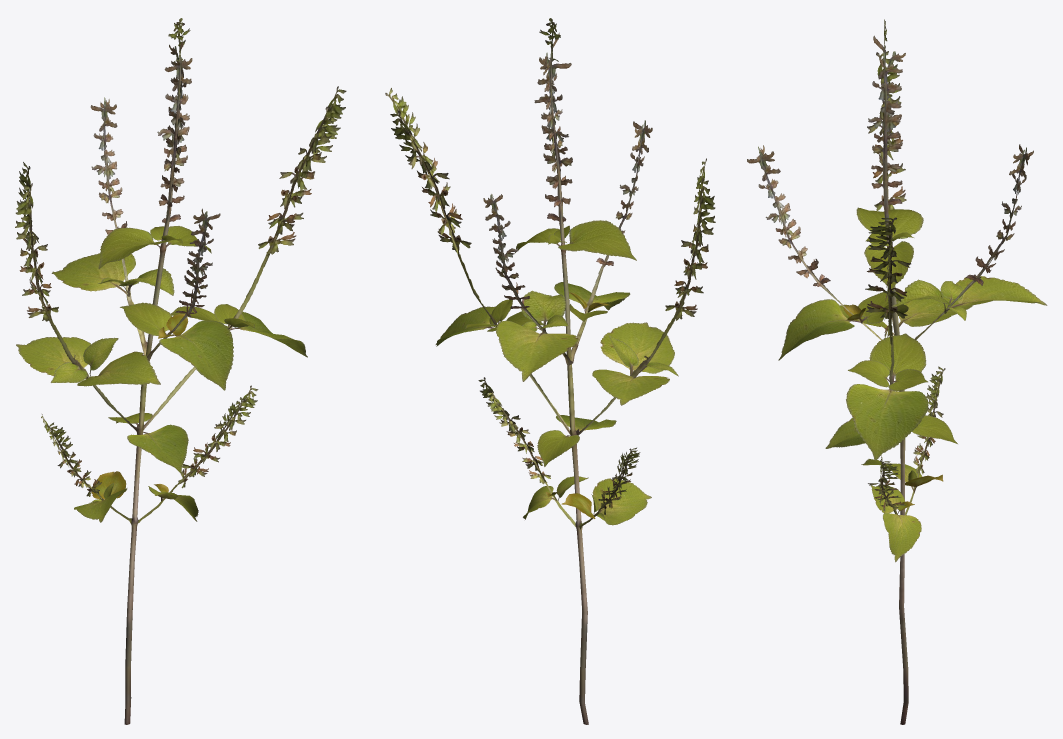
Rendered from shrub_03.glb.
The picture shows the model from 3 angles, left to right: view 1: azimuth 30°, elevation 25°; view 2: azimuth 150°, elevation 25°; view 3: azimuth 270°, elevation 25°; orthographic projection. The views are drawn at different scales.
Visible parts, largest first — view 1: shrub_03_a; view 2: shrub_03_a; view 3: shrub_03_a.
Part boxes in pixels (bbox=[...]): shrub_03_a: bbox=[15, 18, 346, 724]; shrub_03_a: bbox=[385, 18, 715, 724]; shrub_03_a: bbox=[747, 19, 1047, 724].
Bounding box in the file's own units: 0.2006 × 0.4028 × 0.1512.
1 material, 1 textured.
